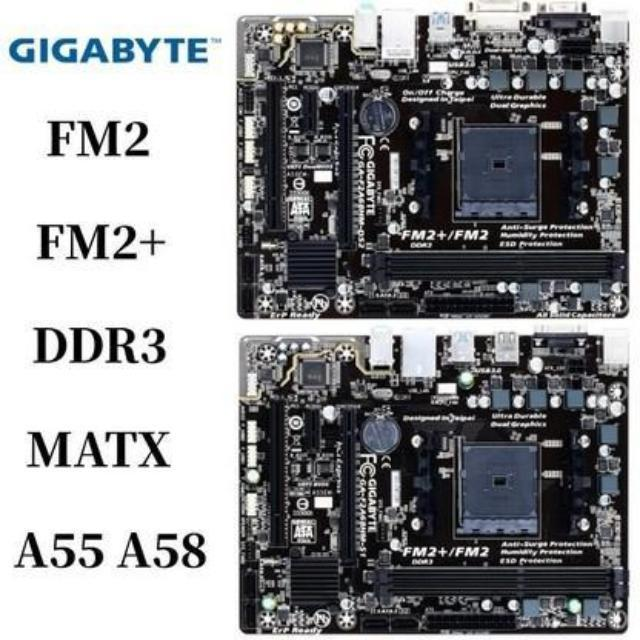Mainboard: (236, 16, 634, 322), (241, 336, 630, 632)
